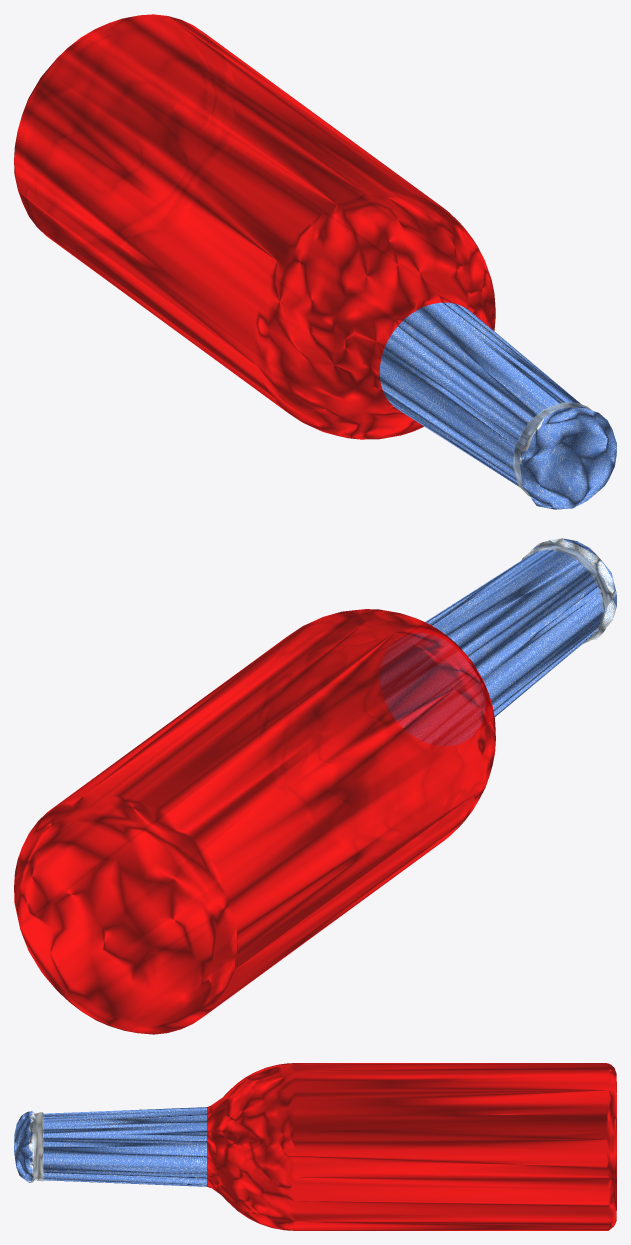
File: model_align.obj
3 renders of one model, top to bottom at view 1: azimuth 30°, elevation 25°; view 2: azimuth 150°, elevation 25°; view 3: azimuth 270°, elevation 25°, orthographic. The views are drawn at different scales.
Bounding box in the file's own units: 0.0446 × 0.0446 × 0.1601.
